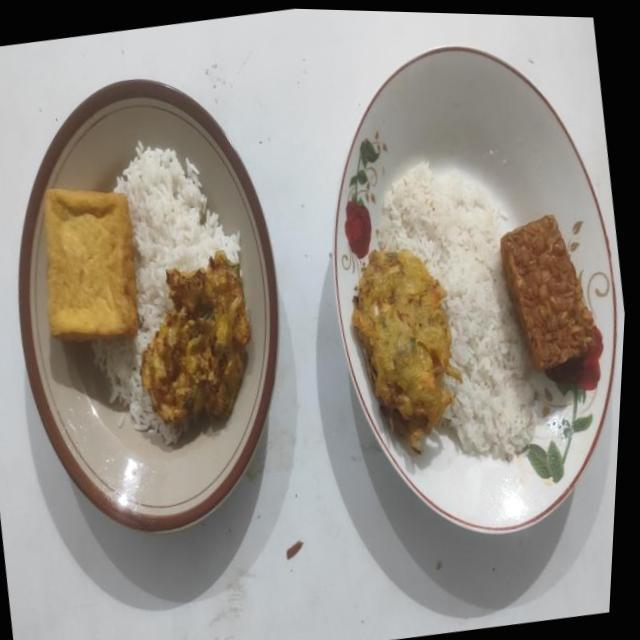nasi_putih: (378, 162, 534, 460), (94, 143, 240, 444)
tahu_goreng: (44, 188, 138, 340)
tempe_goreng: (500, 216, 594, 370)
